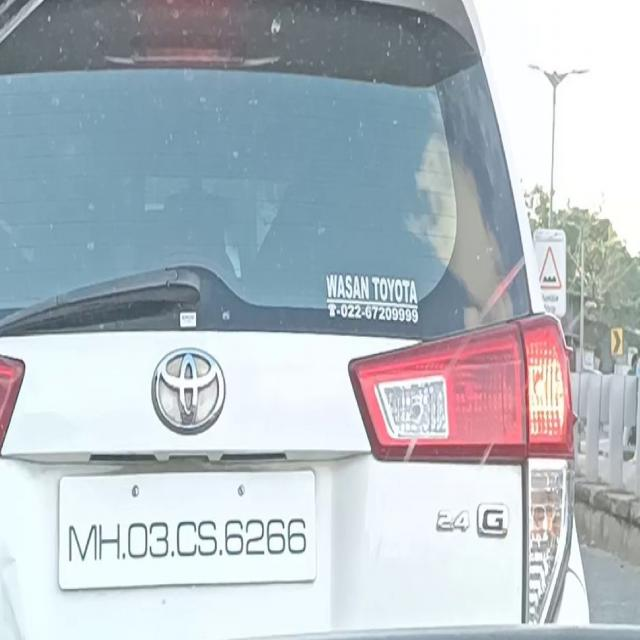Plate: (57, 466, 318, 594)
